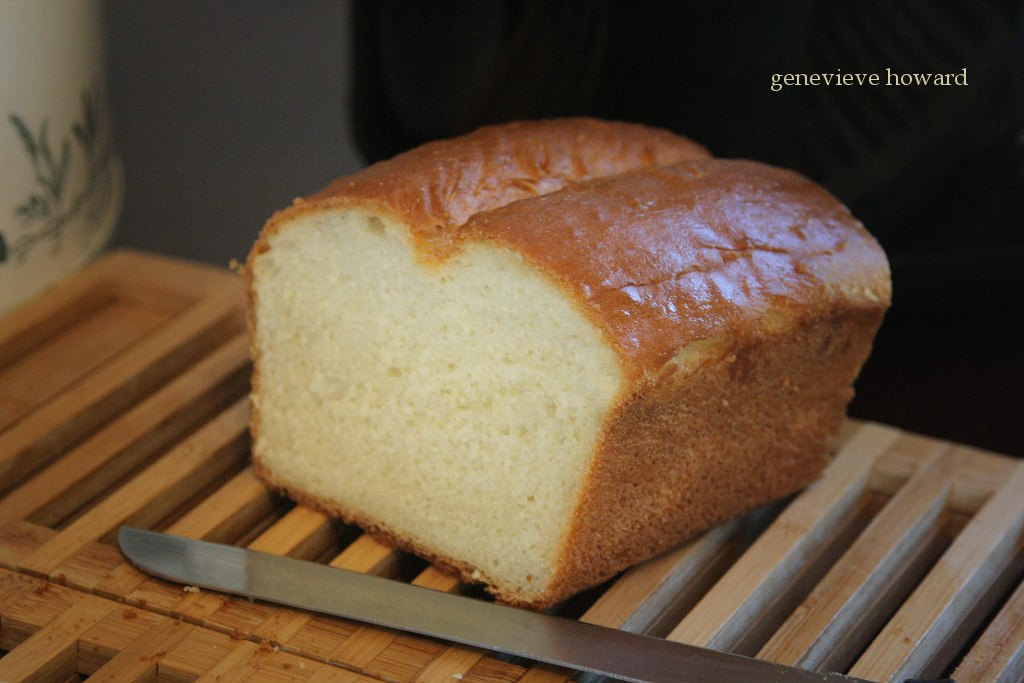slice of bread: (236, 126, 862, 594)
